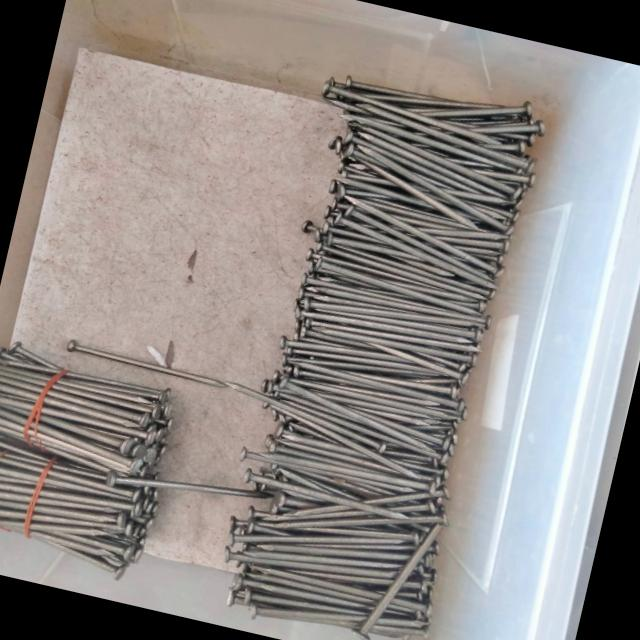3x8 nail: (293, 76, 548, 197), (204, 370, 414, 472), (327, 495, 452, 640), (52, 324, 248, 402)
